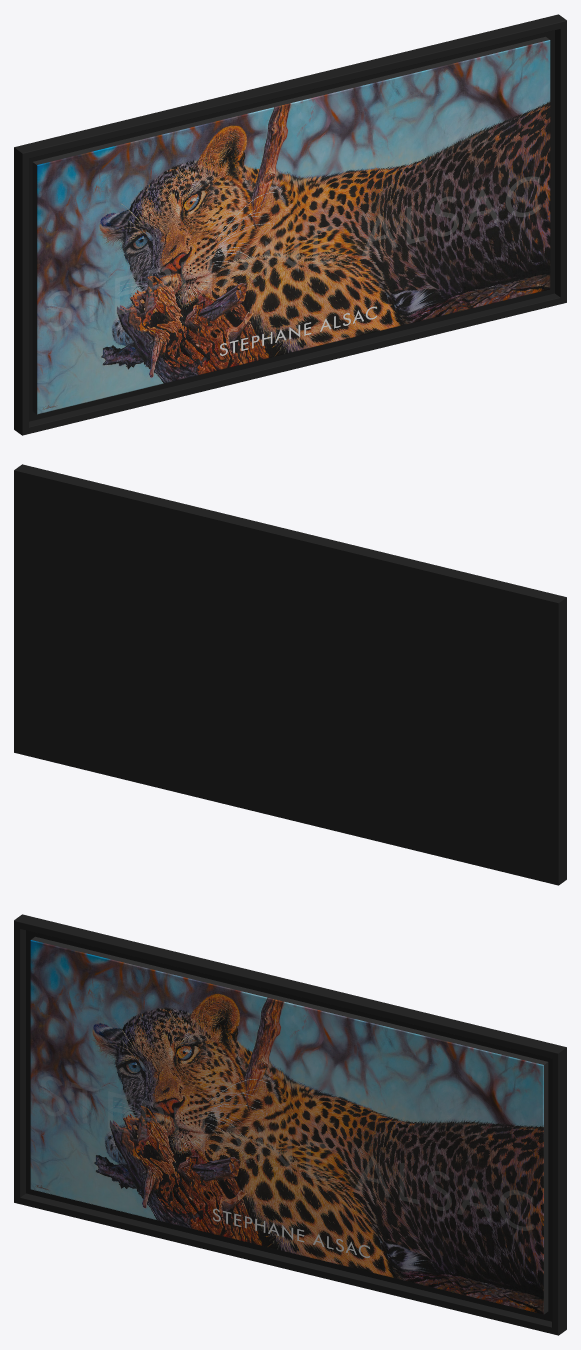
Rendered from tableau-leopard-arbre-grand-44d19648.glb.
3 renders of one model, top to bottom at view 1: azimuth 30°, elevation 25°; view 2: azimuth 150°, elevation 25°; view 3: azimuth 330°, elevation 25°, orthographic.
Parts seen in each view (by area): view 1: Painting; view 2: Painting; view 3: Painting.
Boxes of the visible parts, x1,y1,x2,y2 form: Painting: (14, 14, 566, 435); Painting: (14, 464, 566, 885); Painting: (14, 914, 566, 1335).
Bounding box in the file's own units: 1.49 × 0.736 × 0.04.
Materials: 4 (2 with a texture image).
